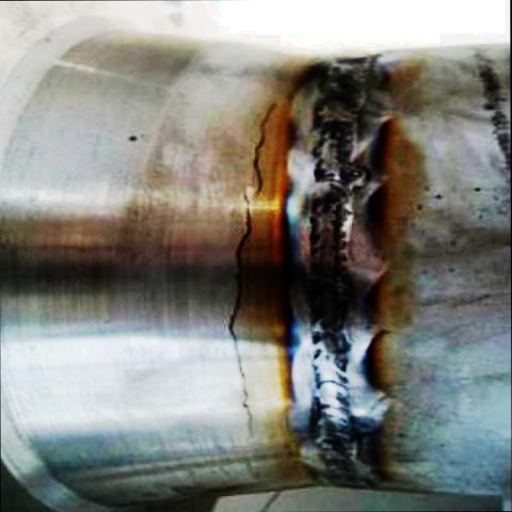crack: (200, 97, 280, 432)
